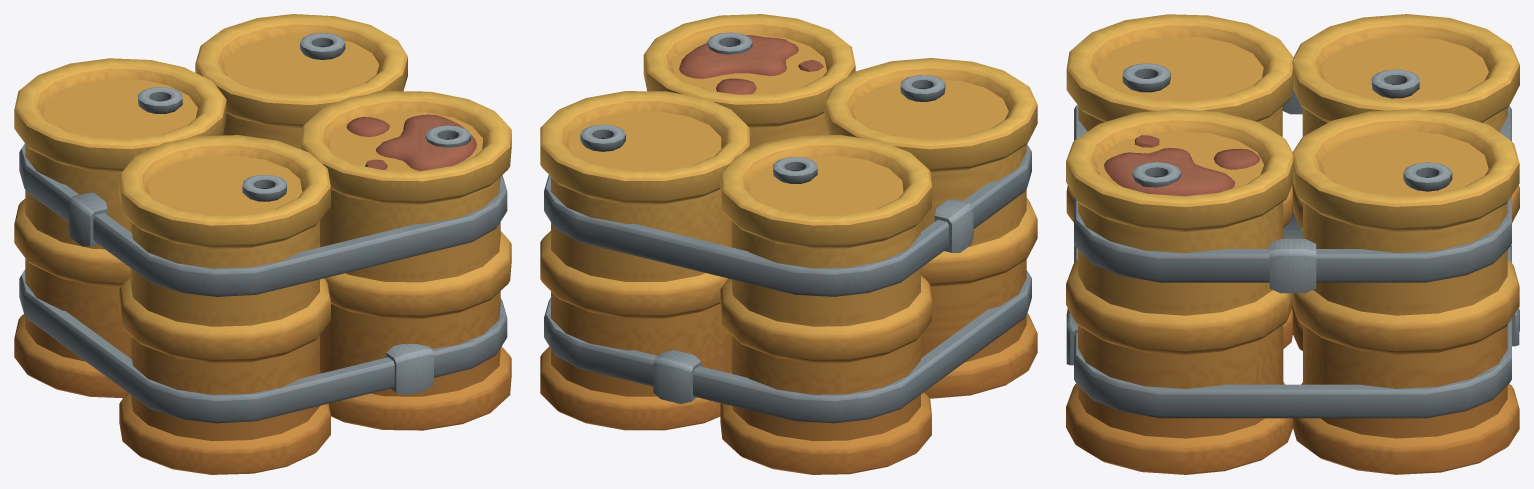
Rendered from fuel-b-barrels.glb.
3 views of the same model, side by side, from view 1: azimuth 30°, elevation 25°; view 2: azimuth 150°, elevation 25°; view 3: azimuth 270°, elevation 25° (orthographic). The views are drawn at different scales.
Parts seen in each view (by area): view 1: Fuel_B_Barrels; view 2: Fuel_B_Barrels; view 3: Fuel_B_Barrels.
Boxes of the visible parts, x1,y1,x2,y2 form: Fuel_B_Barrels: [14, 14, 511, 474]; Fuel_B_Barrels: [540, 14, 1037, 474]; Fuel_B_Barrels: [1066, 14, 1519, 474].
Bounding box in the file's own units: 1.51 × 1.01 × 1.51.
1 material, 1 textured.
